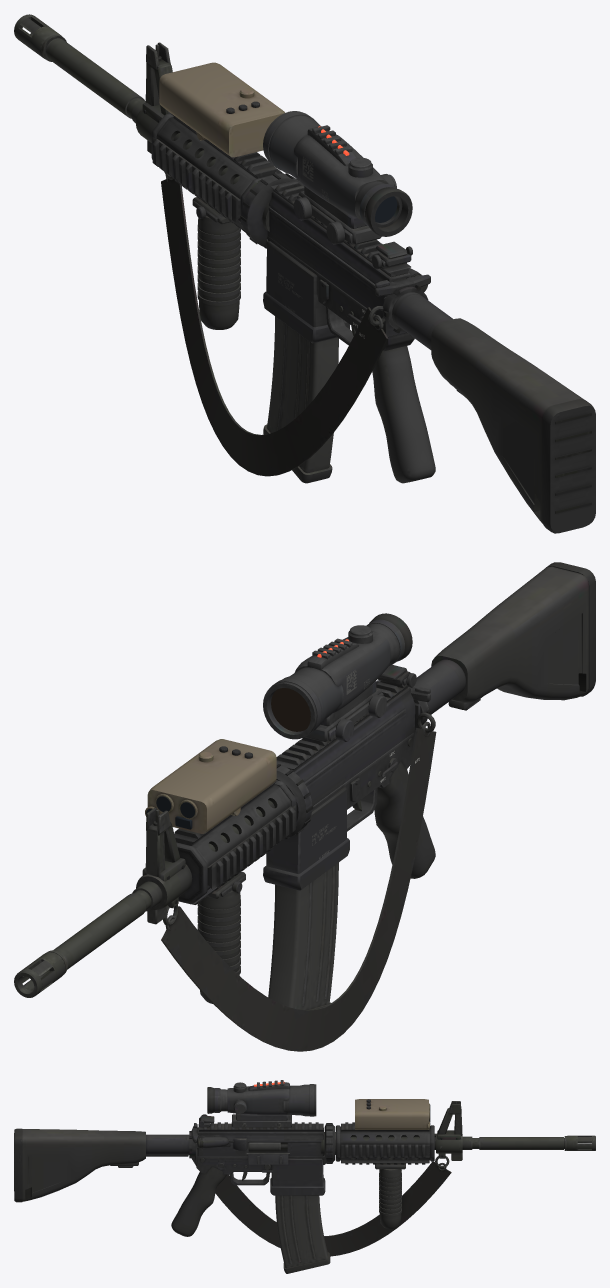
3 renders of one model, top to bottom at view 1: azimuth 30°, elevation 25°; view 2: azimuth 150°, elevation 25°; view 3: azimuth 270°, elevation 25°, orthographic. The views are drawn at different scales.
Parts seen in each view (by area): view 1: body, mag; view 2: body, mag; view 3: body, mag.
Part boxes in pixels (<box>): body: <box>14,14,595,533</box>; mag: <box>263,316,338,483</box>; body: <box>14,562,595,1051</box>; mag: <box>268,862,338,1009</box>; body: <box>14,1080,595,1256</box>; mag: <box>275,1195,330,1273</box>.
Bounding box in the file's own units: 0.075 × 0.2982 × 0.8327.
5 materials, 2 textured.
